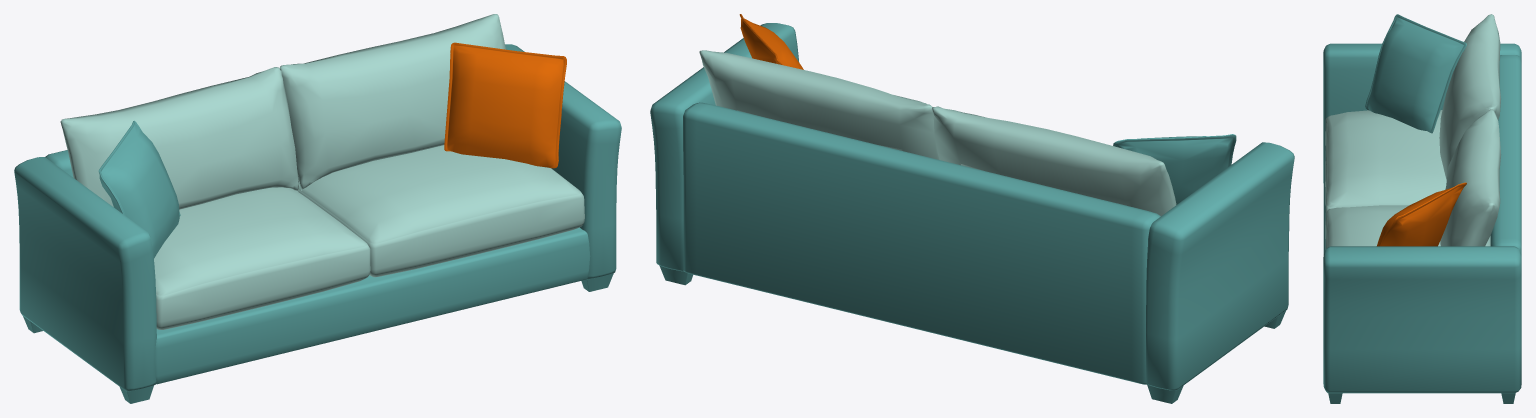
File: sofa.fbx
3 views of the same model, side by side, from view 1: azimuth 30°, elevation 25°; view 2: azimuth 150°, elevation 25°; view 3: azimuth 270°, elevation 25° (orthographic). The views are drawn at different scales.
Visible parts, largest first — view 1: sofa_geo; view 2: sofa_geo; view 3: sofa_geo.
Boxes of the visible parts, x1,y1,x2,y2 form: sofa_geo: (14,14,621,403); sofa_geo: (650,14,1294,403); sofa_geo: (1323,14,1521,403).
Bounding box in the file's own units: 15.64 × 6.33 × 5.96.
Materials: 1 (1 with a texture image).
